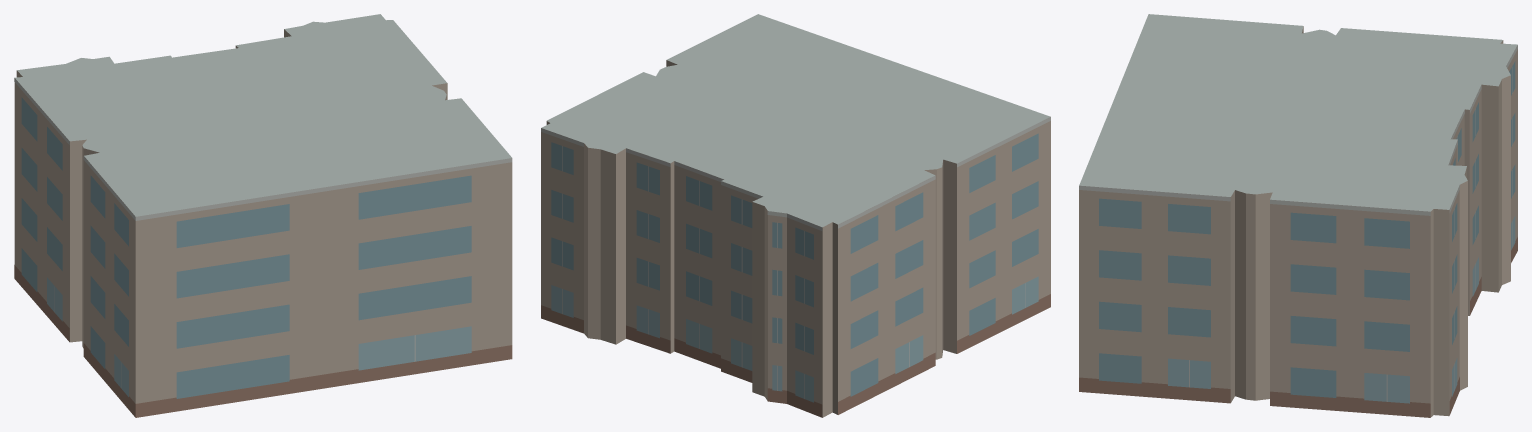
File: survey-upis-32674090.glb
The picture shows the model from 3 angles, left to right: view 1: azimuth 30°, elevation 25°; view 2: azimuth 150°, elevation 25°; view 3: azimuth 270°, elevation 25°; orthographic projection. The views are drawn at different scales.
Visible parts, largest first — view 1: survey-upis-32674090.tmp; view 2: survey-upis-32674090.tmp; view 3: survey-upis-32674090.tmp.
Part boxes in pixels (x1,y1,x2,y2): survey-upis-32674090.tmp: [14, 14, 512, 417]; survey-upis-32674090.tmp: [541, 14, 1050, 417]; survey-upis-32674090.tmp: [1079, 14, 1517, 417].
Size of the model in its own units: 24.26 by 11.8 by 22.76.
